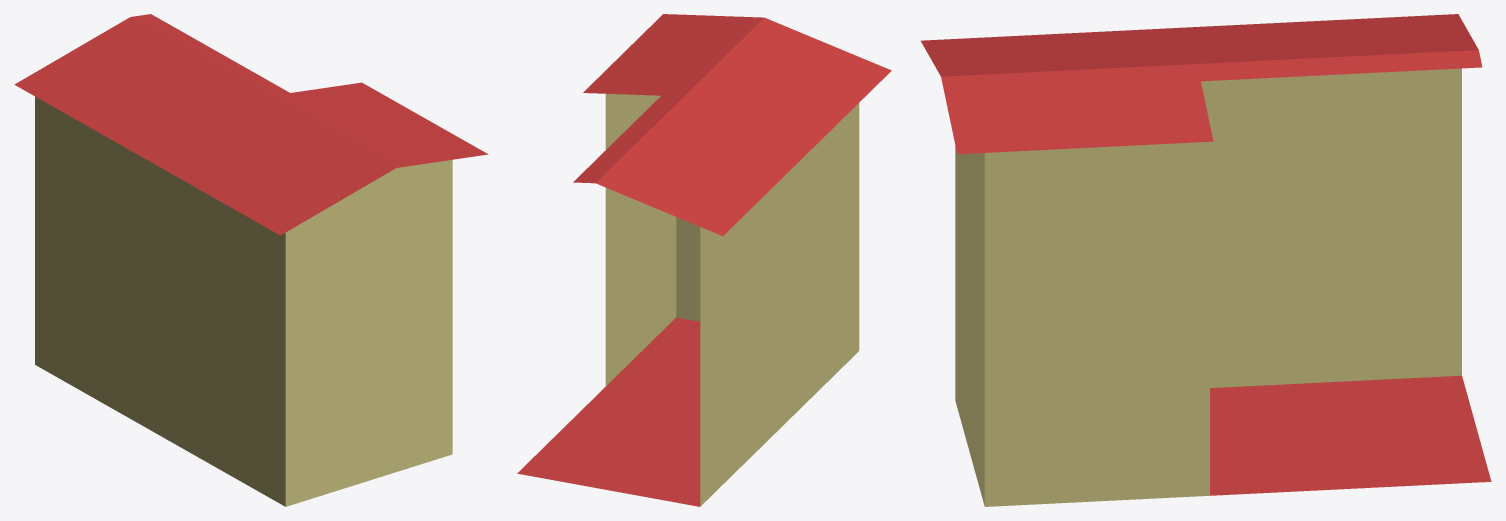
3 renders of one model, left to right at view 1: azimuth 30°, elevation 25°; view 2: azimuth 150°, elevation 25°; view 3: azimuth 270°, elevation 25°, orthographic. The views are drawn at different scales.
Size of the model in its own units: 5.99 by 9.08 by 6.78.
